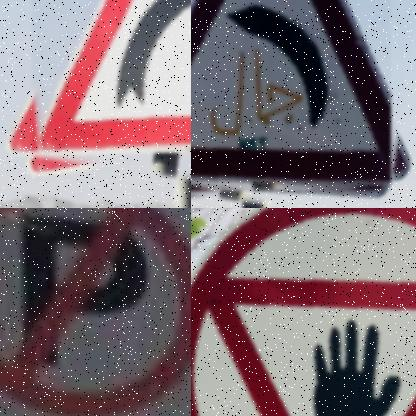Left bend: (191, 0, 390, 187)
No Parking: (0, 208, 191, 416)
Stop: (191, 208, 416, 416)
